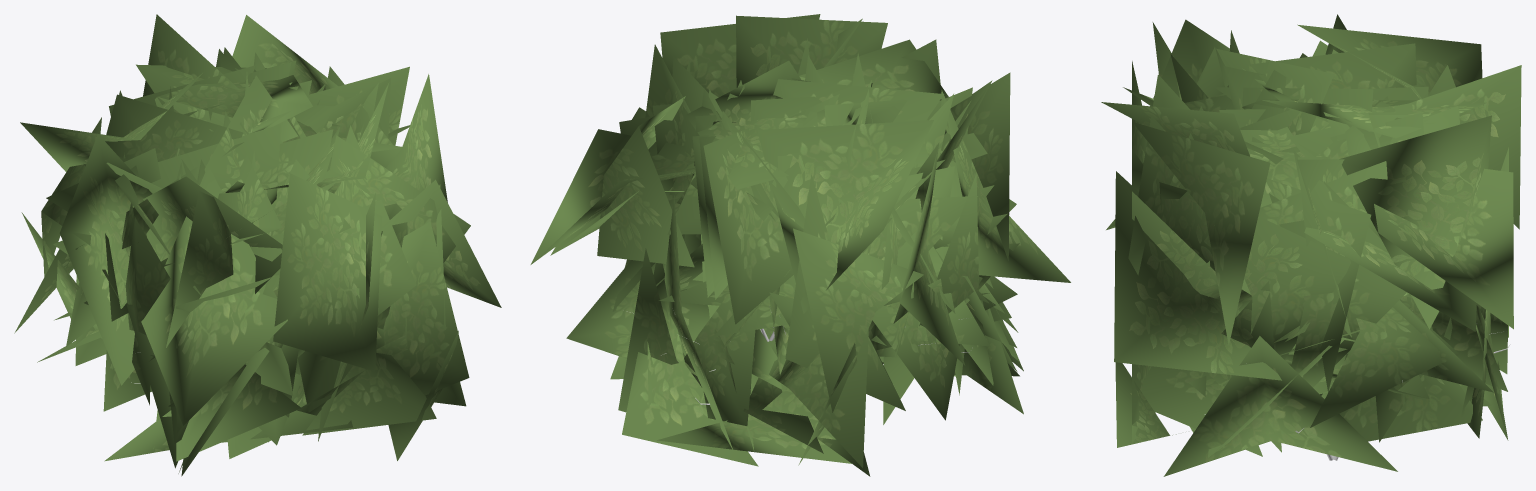
The model's file is SM_SquareBush.fbx.
3 views of the same model, side by side, from view 1: azimuth 30°, elevation 25°; view 2: azimuth 150°, elevation 25°; view 3: azimuth 270°, elevation 25° (orthographic). The views are drawn at different scales.
Parts seen in each view (by area): view 1: lsystem_LOD0; view 2: lsystem_LOD0; view 3: lsystem_LOD0.
Boxes of the visible parts, box(x1,y1,x2,y2) form: lsystem_LOD0: box(14, 14, 501, 476); lsystem_LOD0: box(530, 14, 1070, 476); lsystem_LOD0: box(1101, 14, 1521, 476).
Size of what is drawn, in the model's own units: 209 by 205 by 199.
Materials: 2 (1 with a texture image).
